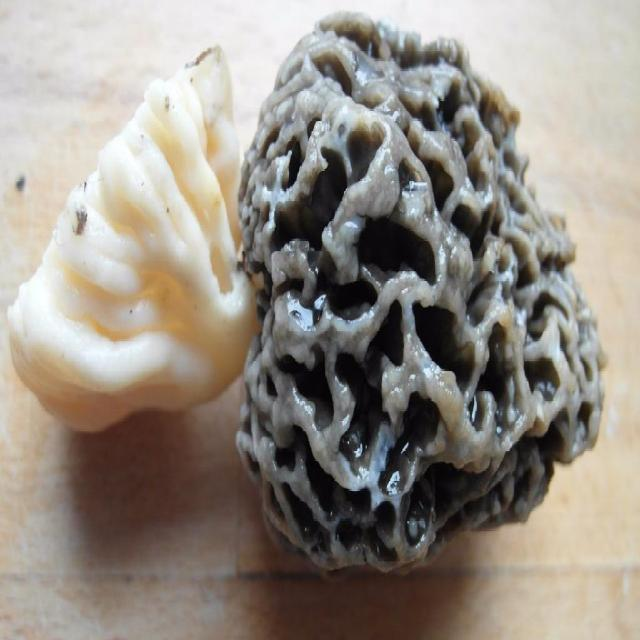Morchella esculenta: (7, 7, 607, 573)
